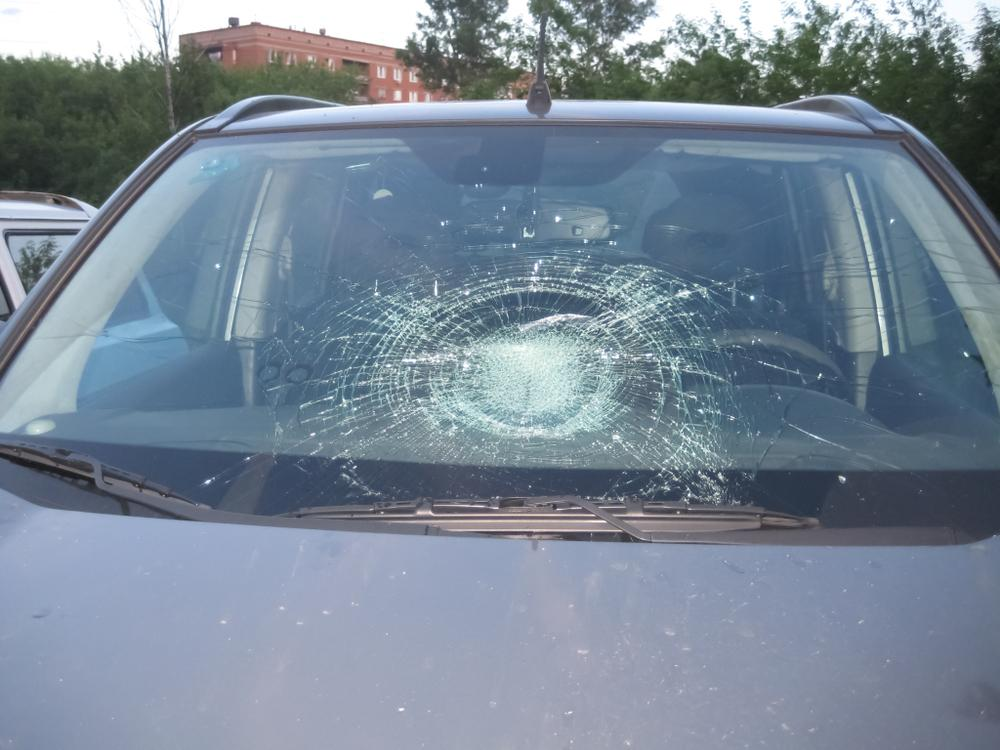glass shatter: (0, 128, 1000, 541)
